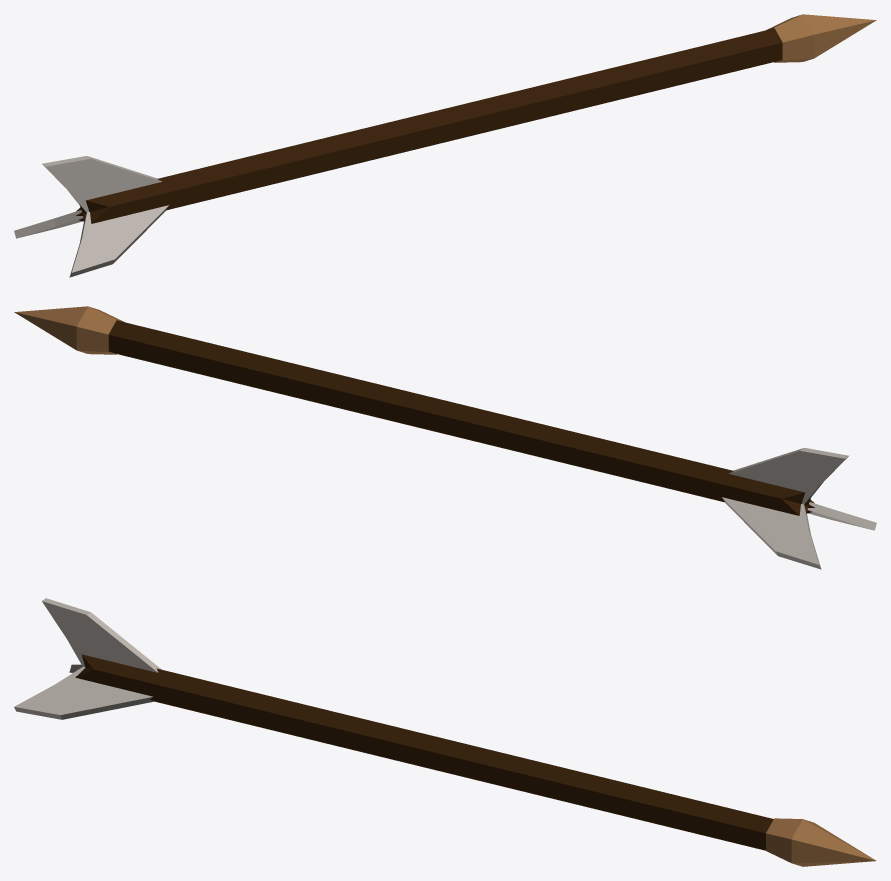
Rendered from arrowModel.fbx.
3 renders of one model, top to bottom at view 1: azimuth 30°, elevation 25°; view 2: azimuth 150°, elevation 25°; view 3: azimuth 330°, elevation 25°, orthographic.
Parts seen in each view (by area): view 1: arrowModel; view 2: arrowModel; view 3: arrowModel.
Part boxes in pixels (<box>): arrowModel: <box>14,14,876,277</box>; arrowModel: <box>14,306,876,569</box>; arrowModel: <box>14,598,876,866</box>.
Size of the model in its own units: 6.94 by 0.7364 by 0.83.
